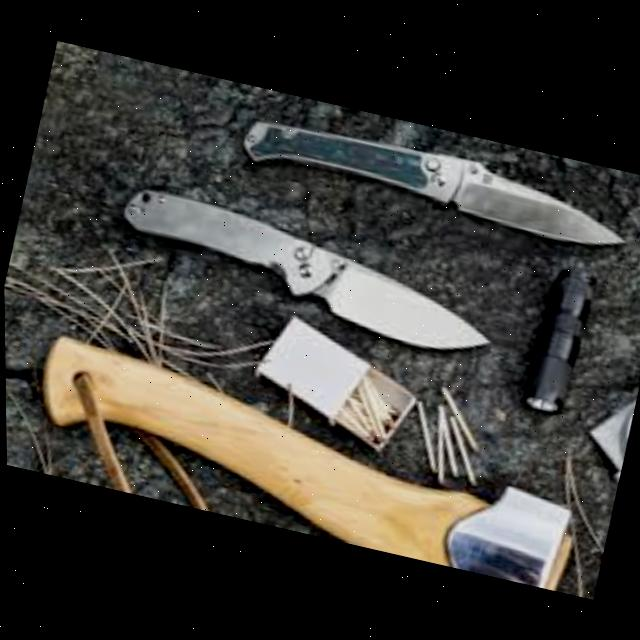Knife: (109, 182, 508, 362), (237, 108, 637, 255)
